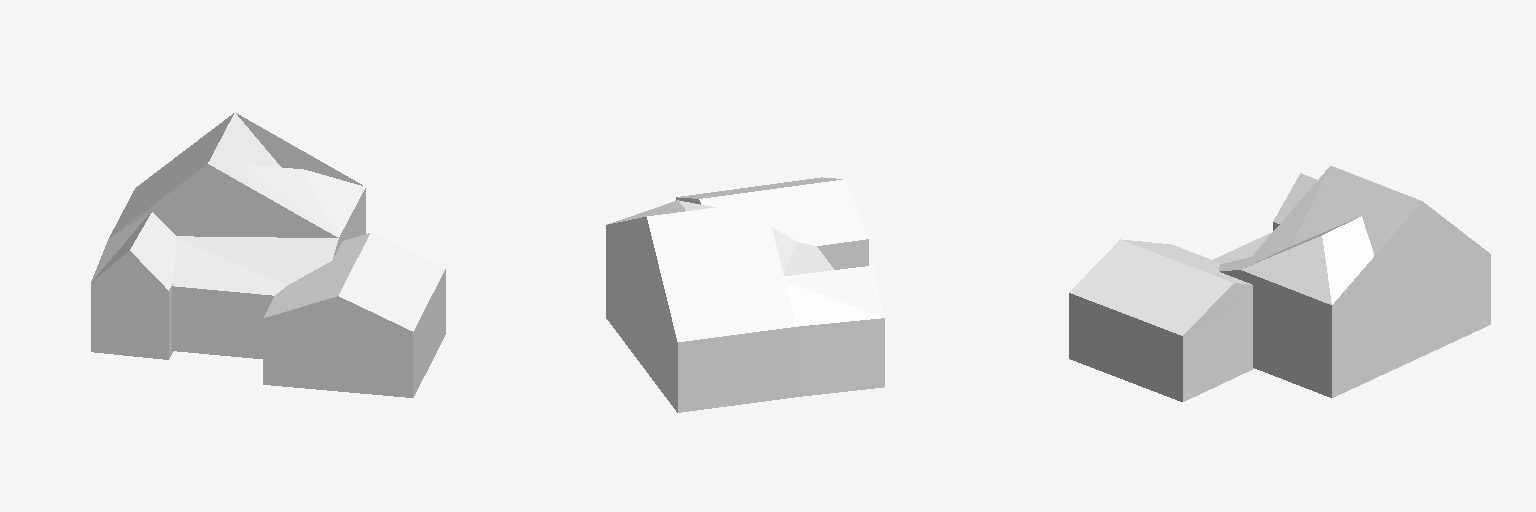
File: house_Shape 317.obj
3 renders of one model, left to right at view 1: azimuth 30°, elevation 25°; view 2: azimuth 150°, elevation 25°; view 3: azimuth 270°, elevation 25°, orthographic.
Parts seen in each view (by area): view 1: CityEngineMaterial_214, CityEngineMaterial_12; view 2: CityEngineMaterial_12, CityEngineMaterial_214, CityEngineMaterial_215; view 3: CityEngineMaterial_214, CityEngineMaterial_12, CityEngineMaterial_215.
Part boxes in pixels (left/top/right/bottom): CityEngineMaterial_214: left=91, top=113, right=445, bottom=397; CityEngineMaterial_12: left=91, top=113, right=445, bottom=331; CityEngineMaterial_12: left=607, top=177, right=884, bottom=341; CityEngineMaterial_214: left=606, top=197, right=884, bottom=412; CityEngineMaterial_215: left=606, top=239, right=868, bottom=412; CityEngineMaterial_214: left=1069, top=167, right=1485, bottom=401; CityEngineMaterial_12: left=1069, top=166, right=1421, bottom=335; CityEngineMaterial_215: left=1253, top=251, right=1490, bottom=397.
Size of the model in its own units: 17.45 by 9.38 by 22.61.